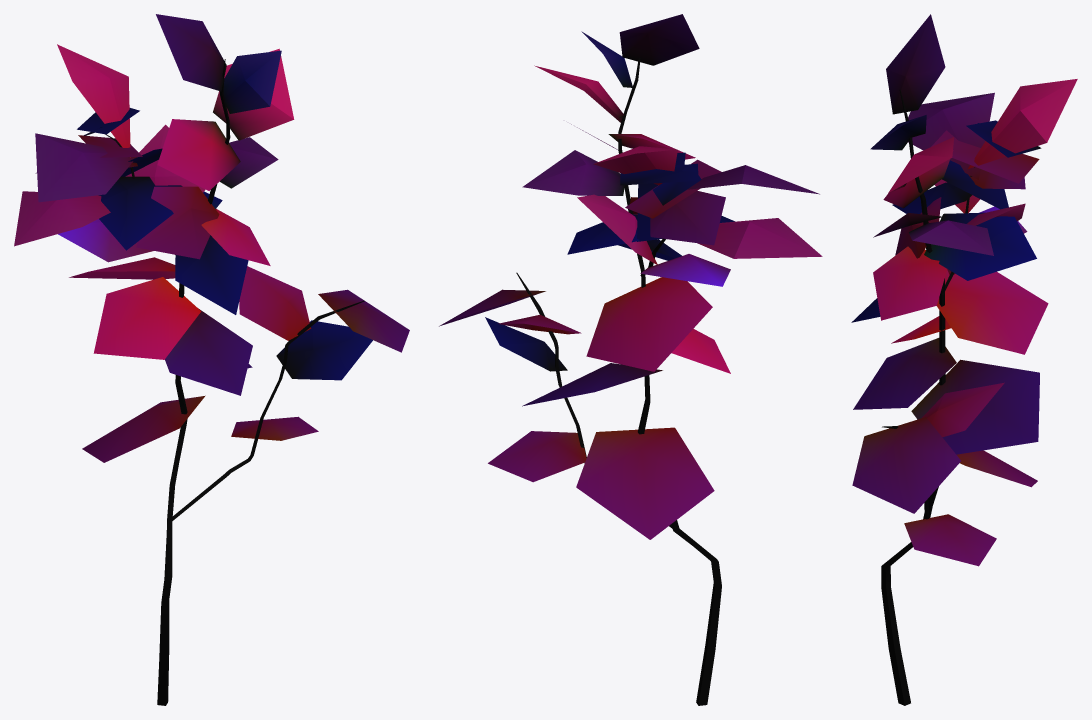
The model's file is Small_Tree.FBX.
3 renders of one model, left to right at view 1: azimuth 30°, elevation 25°; view 2: azimuth 150°, elevation 25°; view 3: azimuth 270°, elevation 25°, orthographic. The views are drawn at different scales.
Parts seen in each view (by area): view 1: Small_Tree_01; view 2: Small_Tree_01; view 3: Small_Tree_01.
Boxes of the visible parts, <box> form: Small_Tree_01: <box>14,14,409,705</box>; Small_Tree_01: <box>439,14,822,705</box>; Small_Tree_01: <box>851,14,1077,705</box>.
Bounding box in the file's own units: 0.987 × 1.66 × 0.4938.
